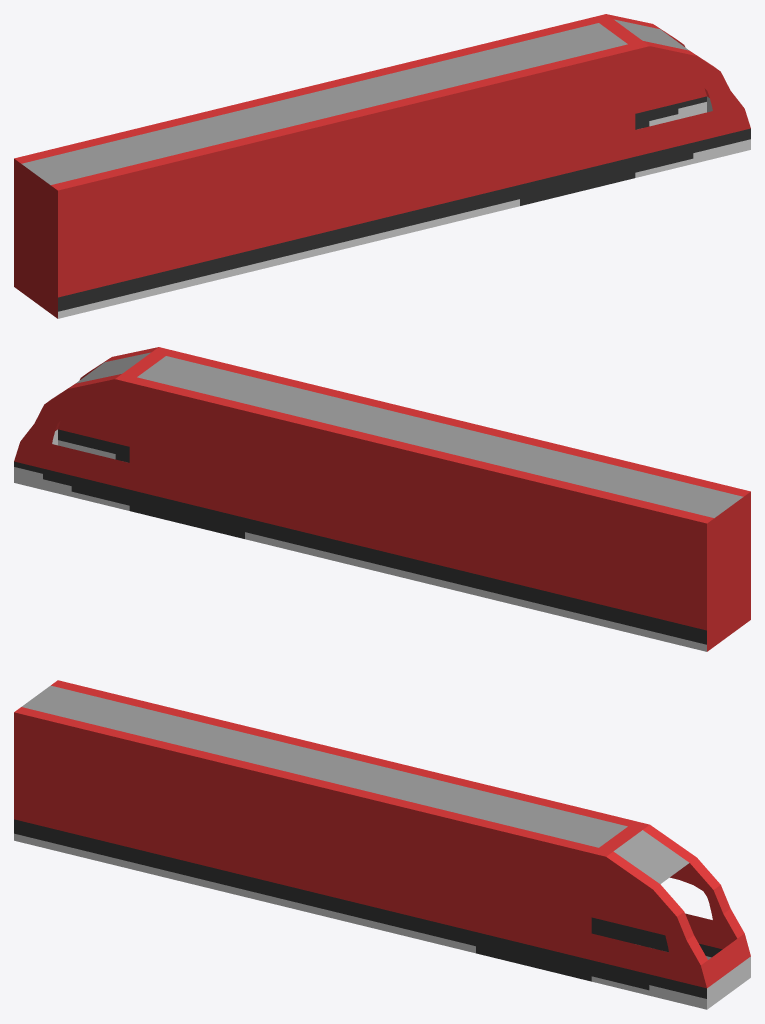
The model's file is train.obj.
The picture shows the model from 3 angles, top to bottom: view 1: azimuth 30°, elevation 25°; view 2: azimuth 150°, elevation 25°; view 3: azimuth 330°, elevation 25°; orthographic projection.
Visible parts, largest first — view 1: train; view 2: train; view 3: train.
Part boxes in pixels (x1,y1,x2,y2): train: [14, 14, 750, 318]; train: [14, 347, 750, 651]; train: [14, 680, 750, 1009].
Size of the model in its own units: 26.69 by 4.72 by 2.93.
